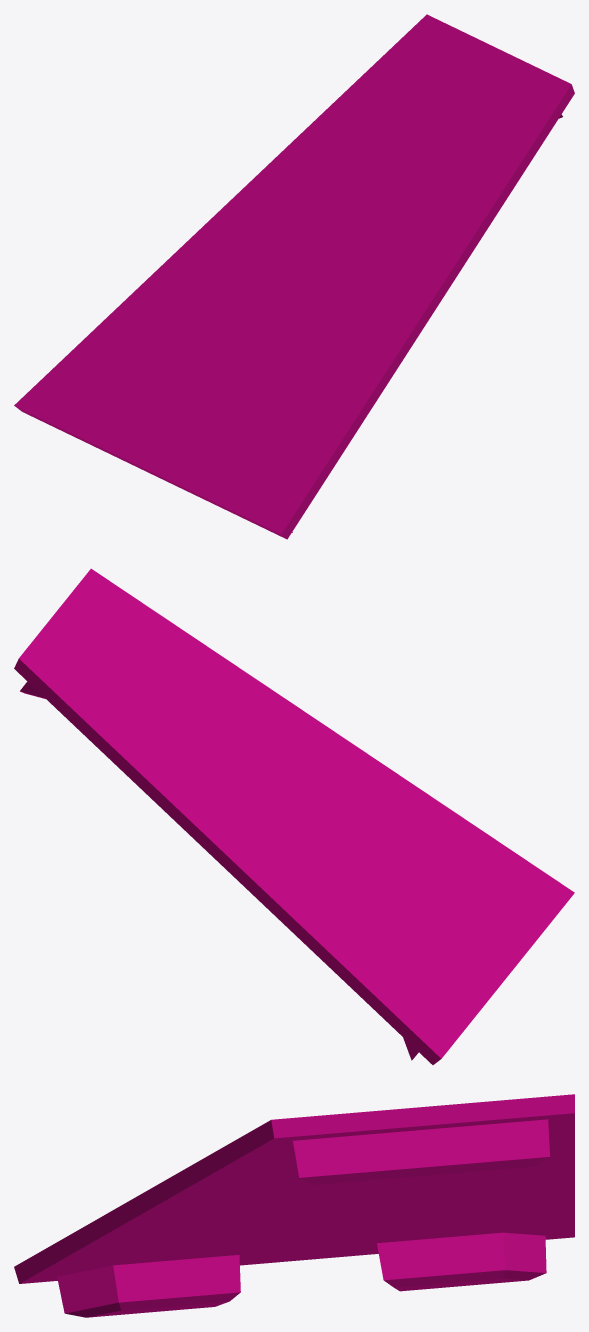
File: Baluminaria-Seg06.fbx
3 renders of one model, top to bottom at view 1: azimuth 30°, elevation 25°; view 2: azimuth 150°, elevation 25°; view 3: azimuth 270°, elevation 25°, orthographic. The views are drawn at different scales.
Parts seen in each view (by area): view 1: Seg06; view 2: Seg06; view 3: Seg06.
Part boxes in pixels (x1,y1,x2,y2): Seg06: (14, 14, 574, 539); Seg06: (14, 568, 574, 1064); Seg06: (14, 1094, 574, 1317).
Size of the model in its own units: 3123 by 2039 by 2368.
